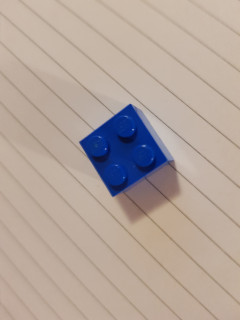2x2 blue: (77, 102, 175, 199)
